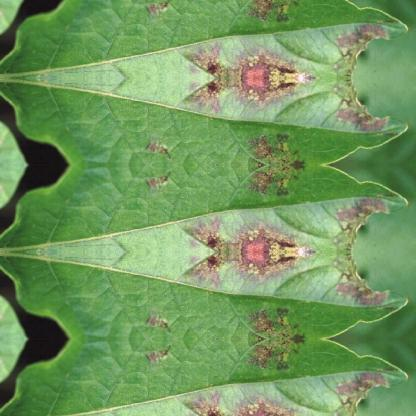Late-Blight: (306, 168, 400, 252), (306, 76, 400, 160), (306, 252, 400, 335), (306, 0, 399, 75), (306, 343, 399, 416), (167, 252, 304, 300), (167, 203, 304, 250), (167, 27, 304, 74), (167, 78, 304, 124), (167, 378, 304, 416), (240, 164, 304, 204), (240, 124, 304, 164), (240, 299, 304, 339), (240, 339, 304, 379), (240, 0, 304, 28)
